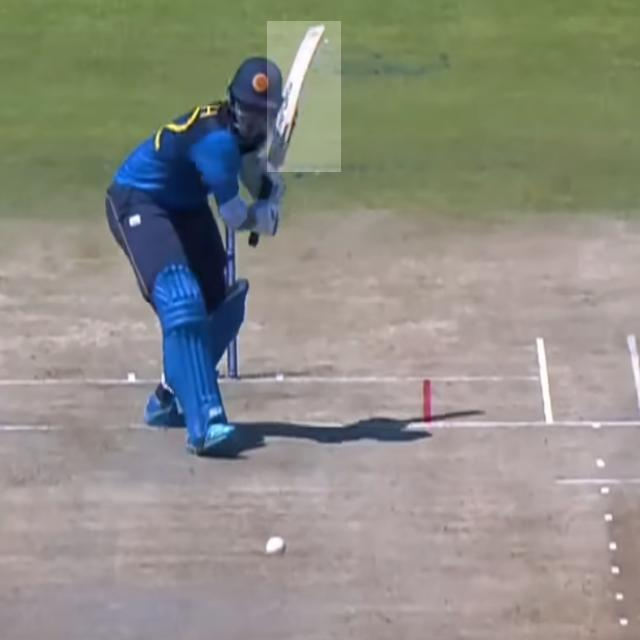bat: (267, 23, 343, 173)
